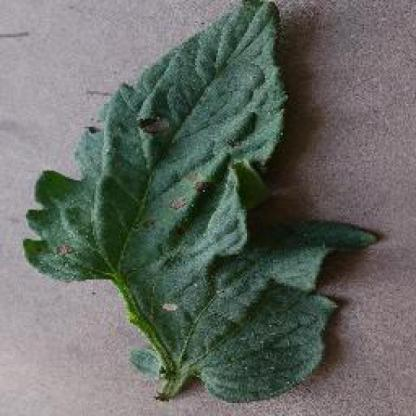Tomato_Blight: (23, 0, 377, 399)
